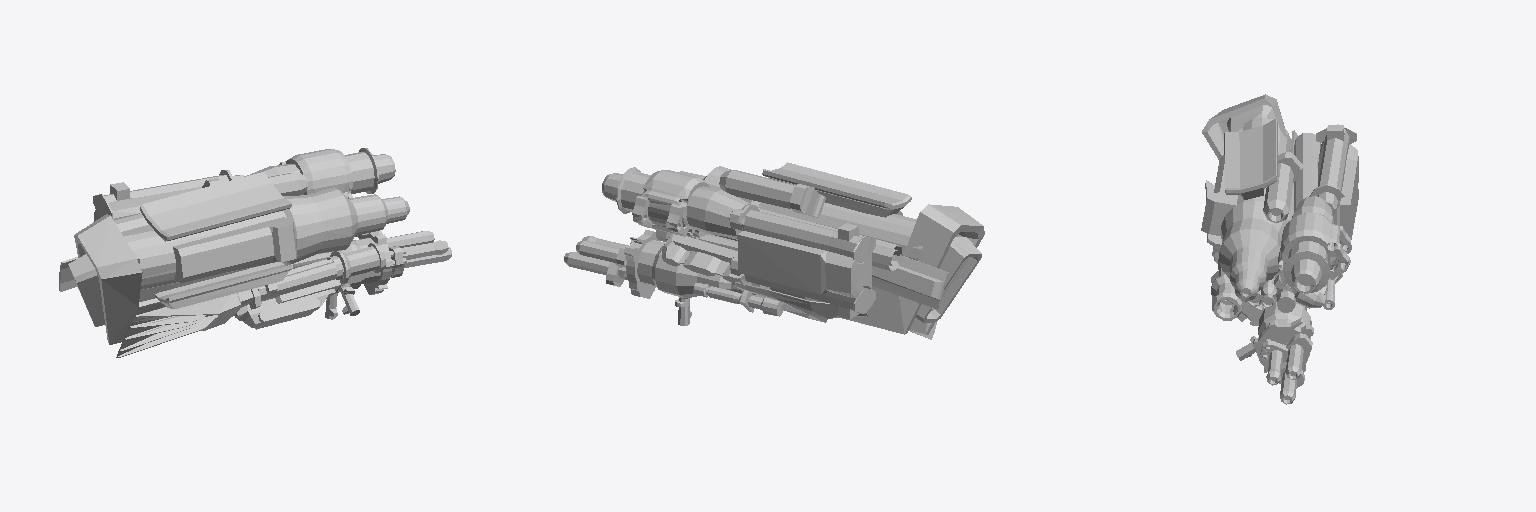
File: WEP-Optimus JetPack Gun.obj
3 renders of one model, left to right at view 1: azimuth 30°, elevation 25°; view 2: azimuth 150°, elevation 25°; view 3: azimuth 270°, elevation 25°, orthographic.
Parts seen in each view (by area): view 1: C_Reference_XR; view 2: C_Reference_XR; view 3: C_Reference_XR.
Part boxes in pixels (x1,y1,x2,y2): C_Reference_XR: (59,148,451,357); C_Reference_XR: (564,162,984,339); C_Reference_XR: (1201,94,1358,404).
Bounding box in the file's own units: 363 × 148 × 126.